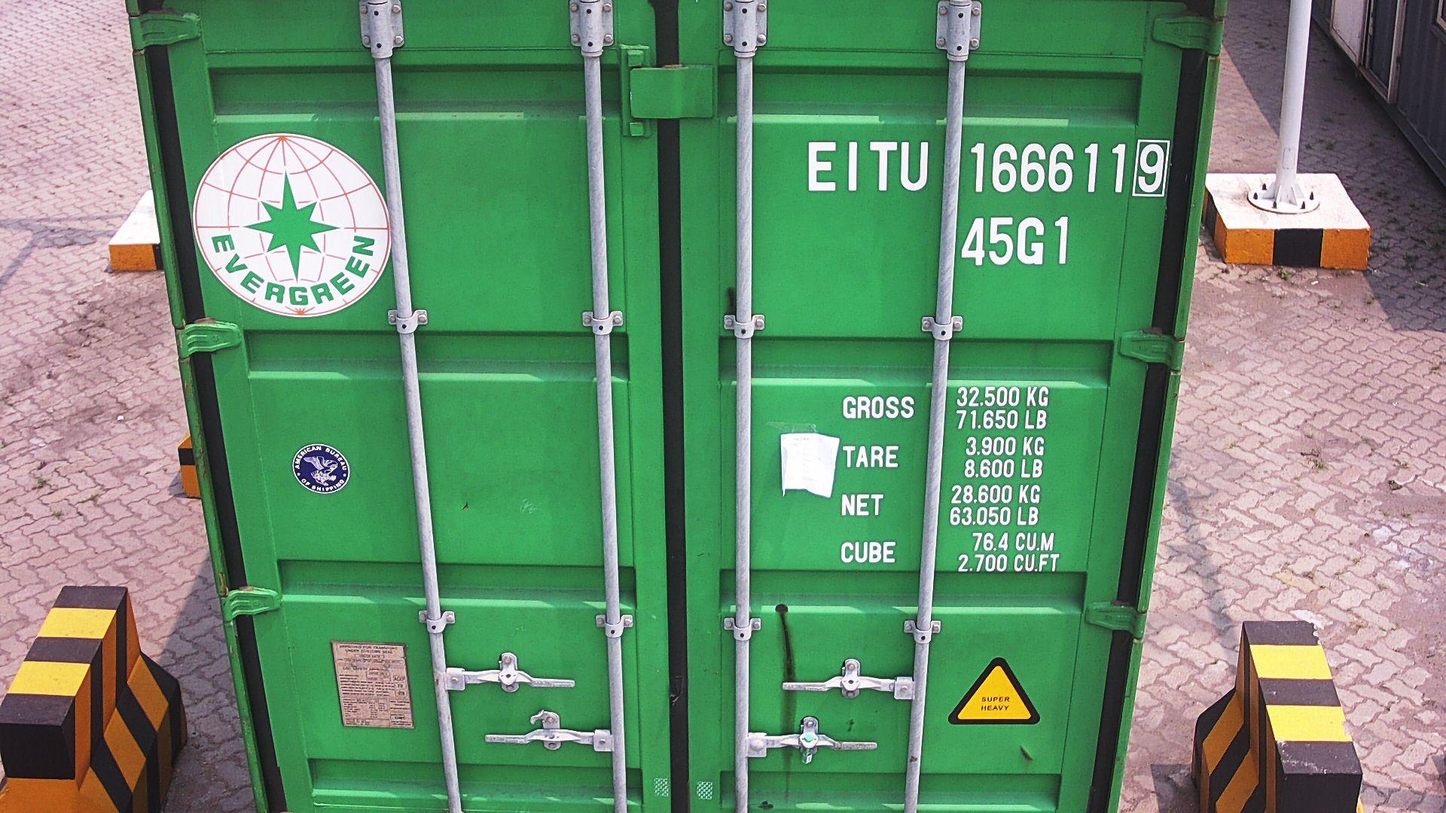container-numbers: (798, 135, 1173, 202), (958, 212, 1076, 269)
